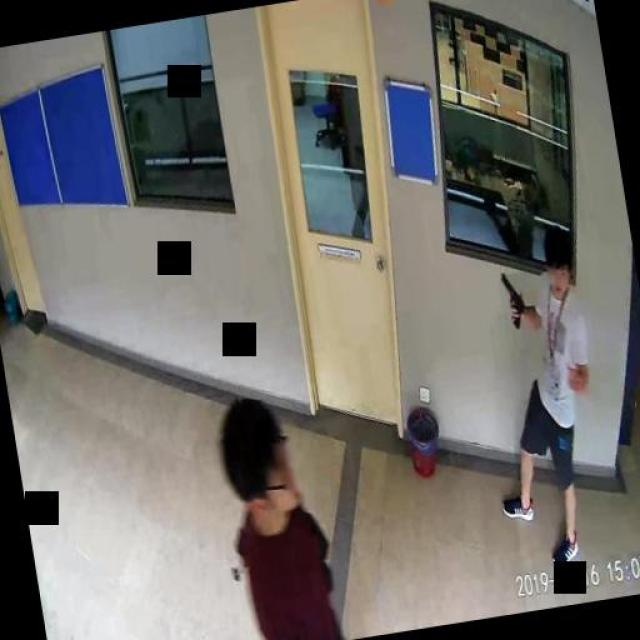gun: (498, 269, 528, 329)
